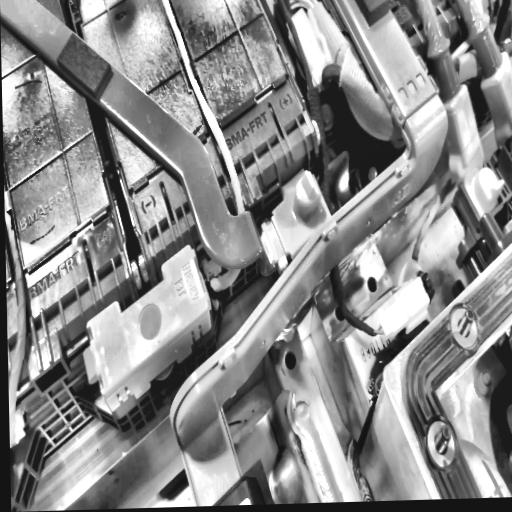busbar: (169, 0, 449, 506), (0, 0, 331, 271)
high_volt_cable: (159, 0, 251, 305)
